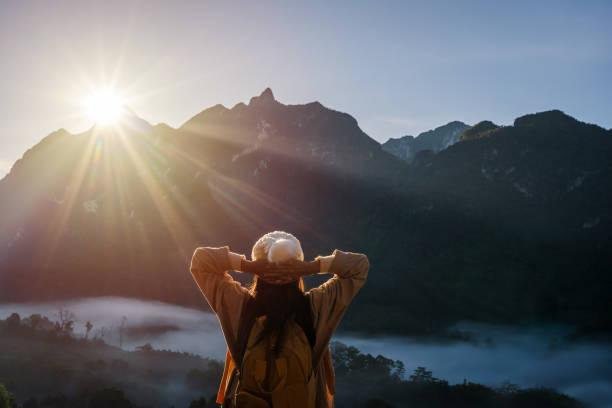Non_Gorille: (132, 117, 416, 408)
